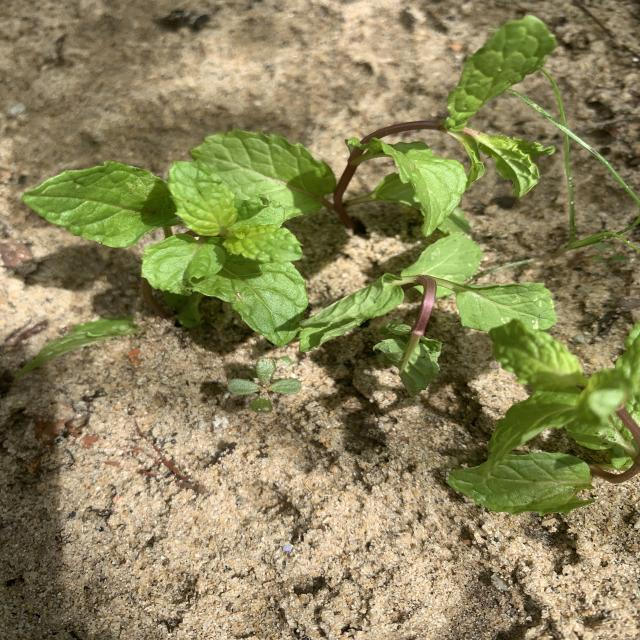crop: (191, 16, 556, 236), (22, 162, 308, 346), (300, 233, 556, 396), (449, 319, 637, 515)
weed: (509, 66, 640, 253), (229, 358, 300, 412)
